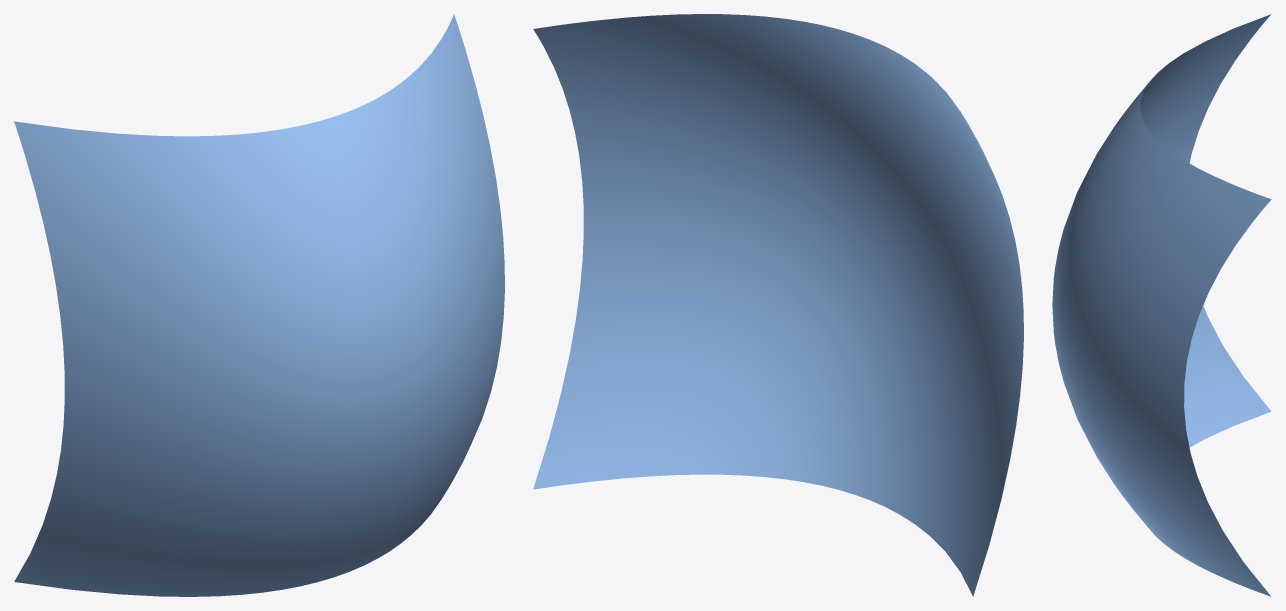
File: gordon-dome.glb
3 renders of one model, left to right at view 1: azimuth 30°, elevation 25°; view 2: azimuth 150°, elevation 25°; view 3: azimuth 270°, elevation 25°, orthographic. The views are drawn at different scales.
Visible parts, largest first — view 1: FACE; view 2: FACE; view 3: FACE.
Part boxes in pixels (x1,y1,x2,y2): FACE: (14,14,504,596); FACE: (533,14,1023,596); FACE: (1052,14,1271,596).
Size of the model in its own units: 10 by 10 by 5.
